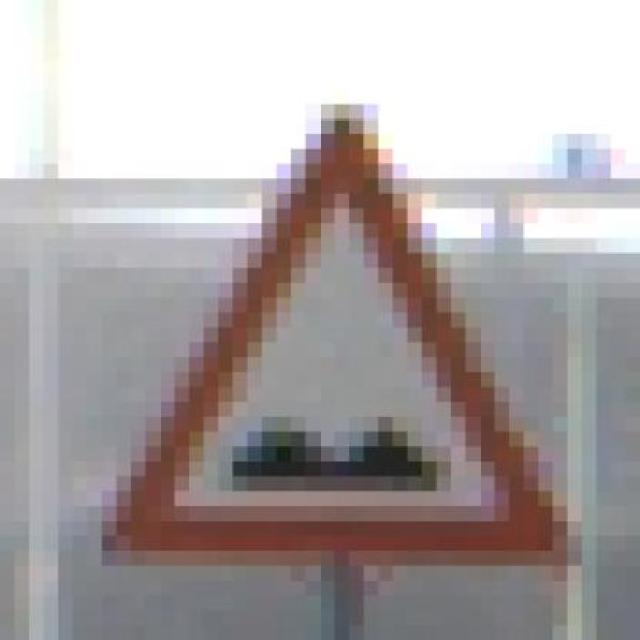Uneven Road: (101, 89, 582, 566)
